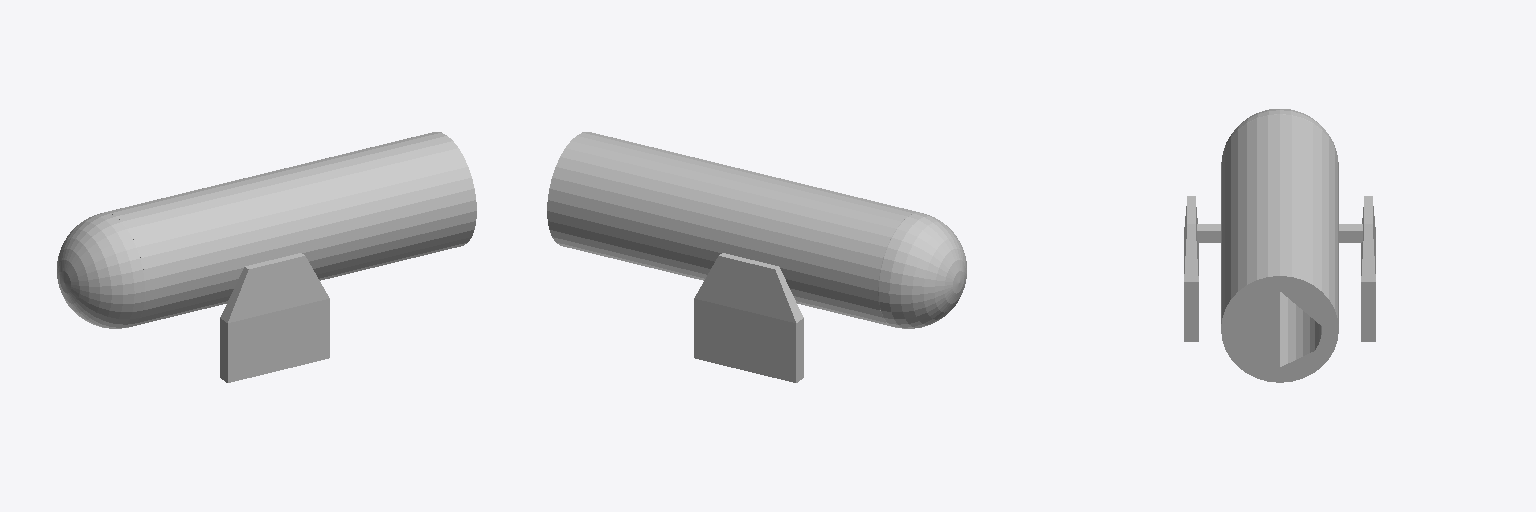
File: cannon.obj
3 views of the same model, side by side, from view 1: azimuth 30°, elevation 25°; view 2: azimuth 150°, elevation 25°; view 3: azimuth 270°, elevation 25° (orthographic).
Visible parts, largest first — view 1: Cylinder, Cube; view 2: Cylinder, Cube.001_Cube.002; view 3: Cylinder, Cube, Cube.001_Cube.002.
Part boxes in pixels (x1,y1,x2,y2): Cylinder: (57, 132, 476, 328); Cube: (220, 253, 329, 382); Cylinder: (547, 132, 966, 328); Cube.001_Cube.002: (694, 253, 803, 382); Cylinder: (1221, 109, 1338, 382); Cube: (1184, 196, 1220, 341); Cube.001_Cube.002: (1339, 196, 1375, 341).
Bounding box in the file's own units: 7.49 × 2.75 × 3.25.